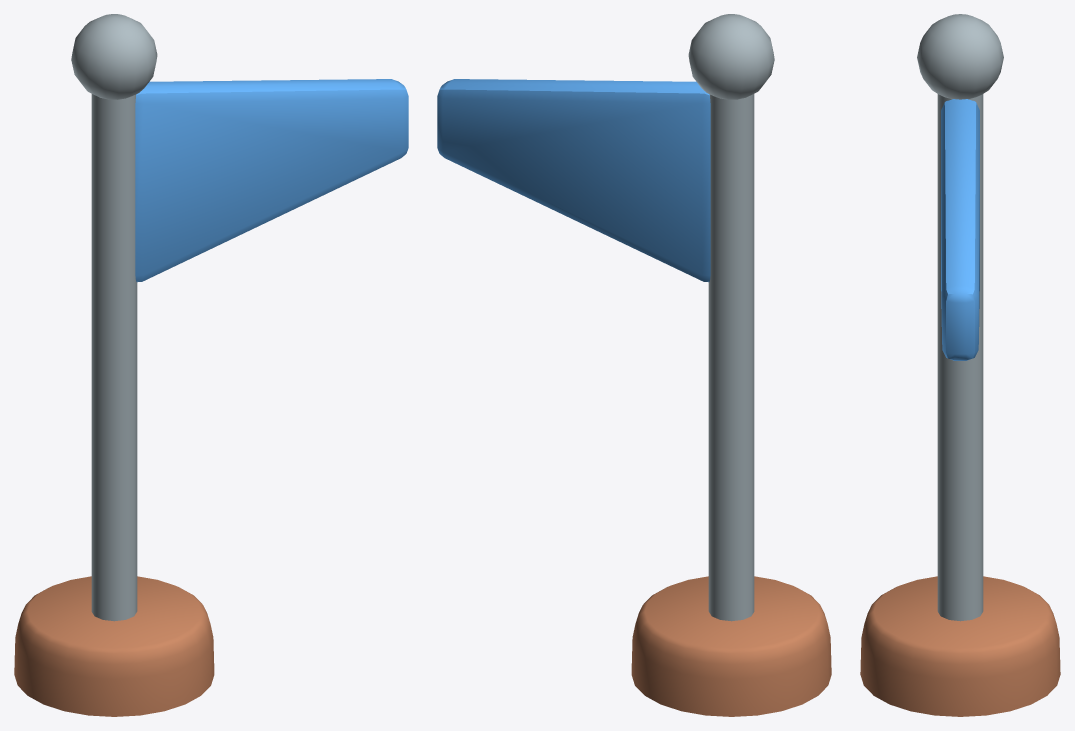
File: flag_teamBlue-col.glb
The picture shows the model from 3 angles, left to right: view 1: azimuth 30°, elevation 25°; view 2: azimuth 150°, elevation 25°; view 3: azimuth 270°, elevation 25°; orthographic projection.
Parts seen in each view (by area): view 1: flag_teamBlue-col; view 2: flag_teamBlue-col; view 3: flag_teamBlue-col.
Part boxes in pixels (x1,y1,x2,y2): flag_teamBlue-col: [14, 14, 408, 716]; flag_teamBlue-col: [437, 14, 831, 716]; flag_teamBlue-col: [860, 14, 1060, 716].
Size of the model in its own units: 1.2 by 2 by 0.5524.
